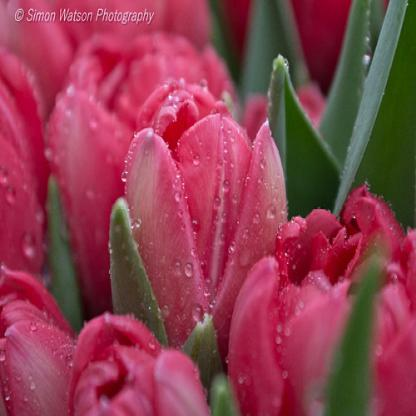TULIP: (30, 73, 410, 407)
